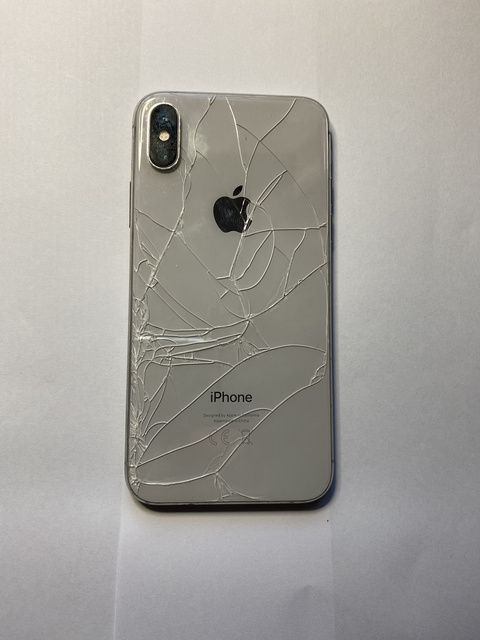crack_phone: (115, 80, 358, 538)
